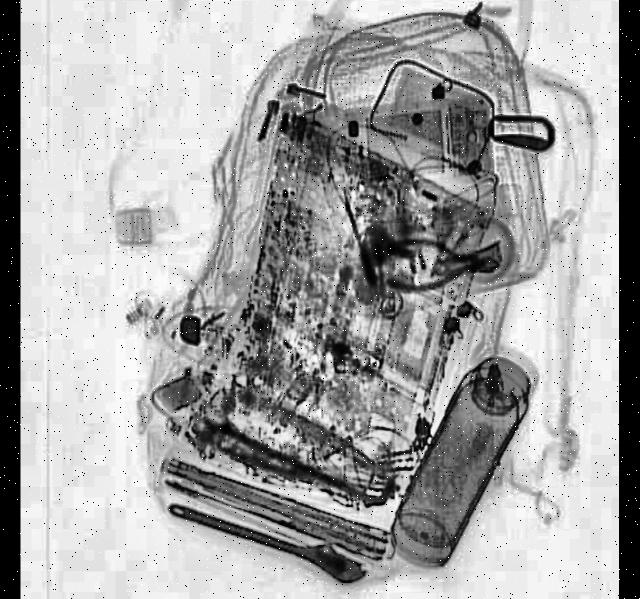Pliers: (187, 412, 338, 494), (383, 232, 498, 291)
Wrench: (164, 486, 371, 586)
